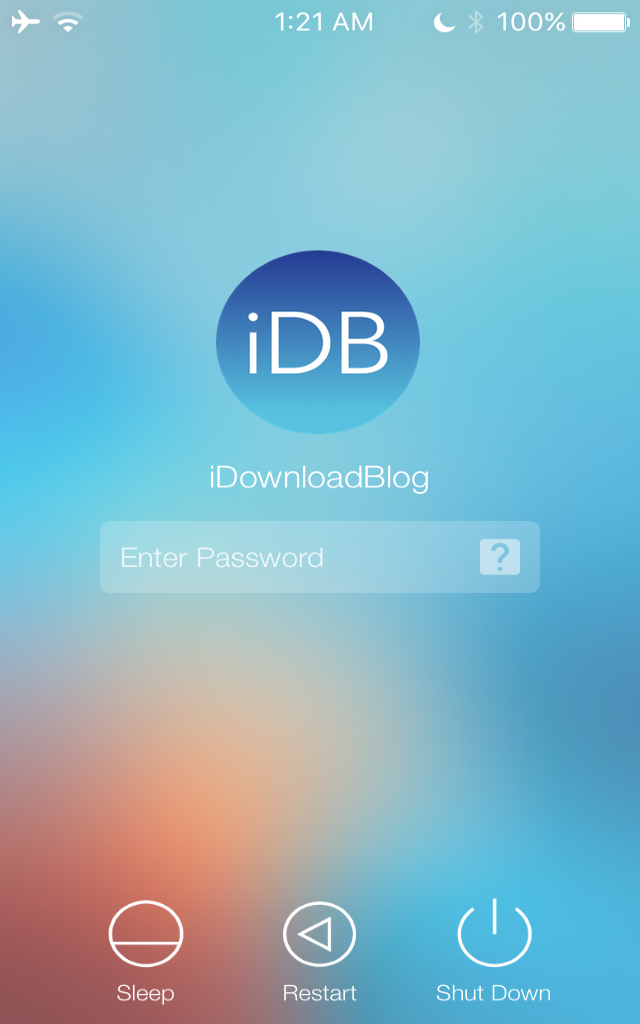label_password: (188, 535, 338, 575)
textbox: (99, 525, 480, 586)
